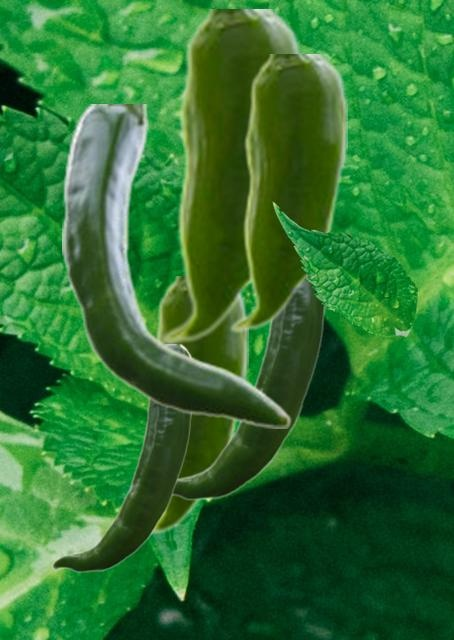green_chili: (62, 104, 291, 427), (160, 9, 301, 346), (174, 282, 327, 500), (228, 54, 346, 333), (51, 344, 193, 572), (151, 276, 247, 535)
